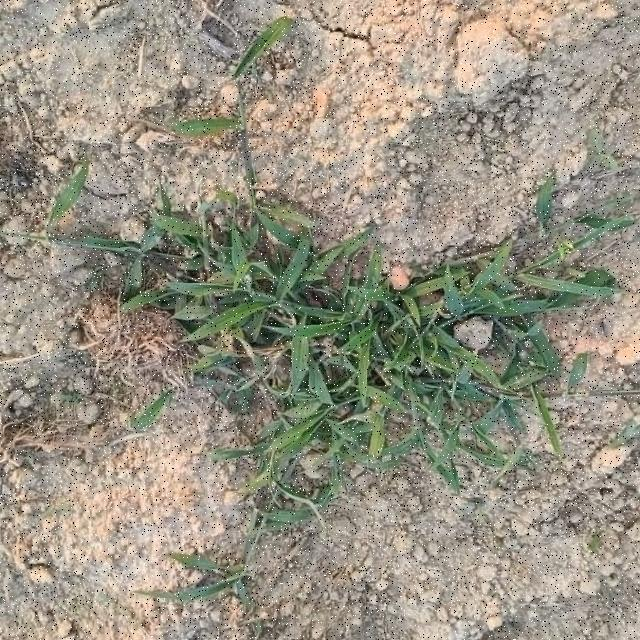weed: (47, 16, 632, 603)
